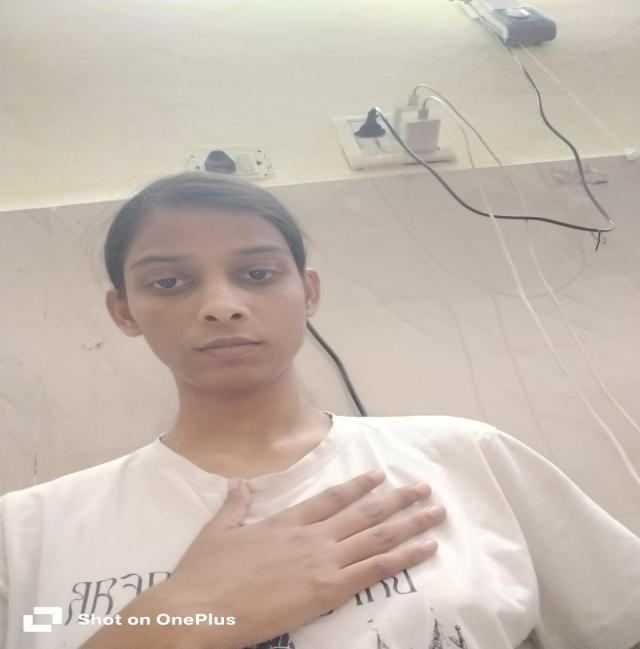Please: (150, 460, 468, 648)
